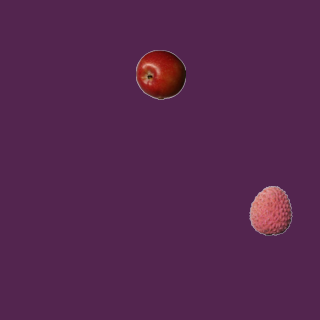Apple Braeburn: (135, 49, 185, 99)
Lychee: (245, 185, 295, 235)
